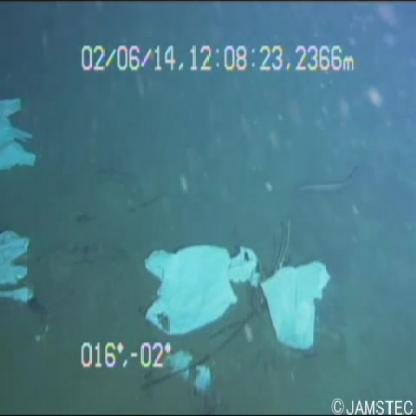Rác: (134, 226, 262, 333), (259, 256, 336, 352), (1, 85, 37, 178), (1, 223, 32, 307)
